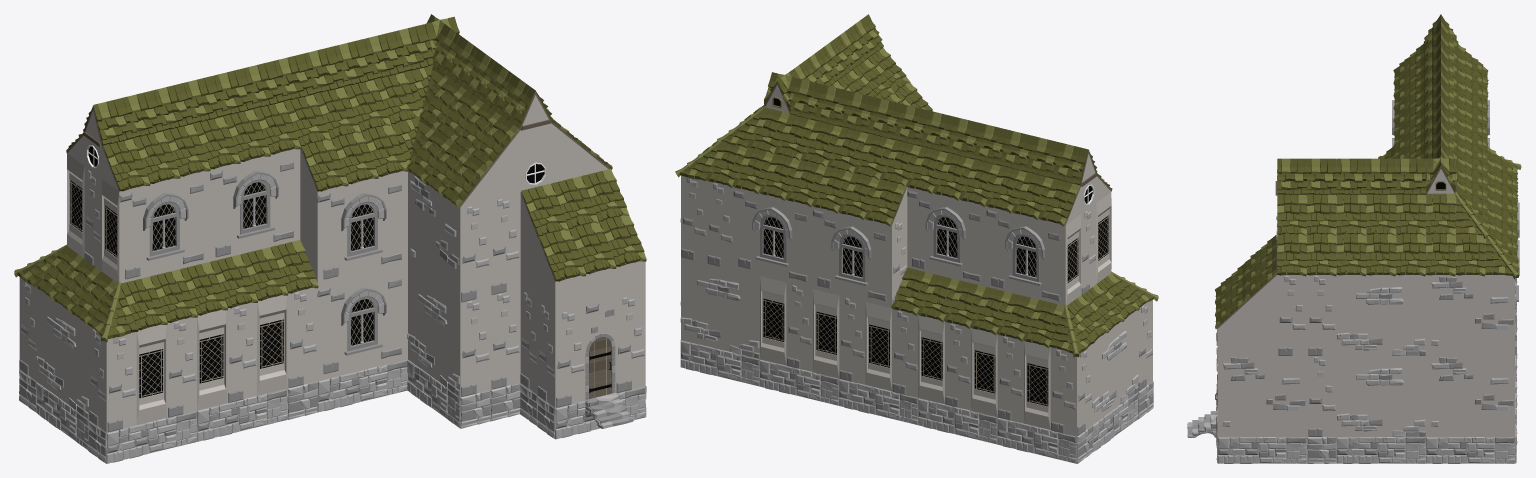
Rendered from HOUSE_10.fbx.
3 renders of one model, left to right at view 1: azimuth 30°, elevation 25°; view 2: azimuth 150°, elevation 25°; view 3: azimuth 270°, elevation 25°, orthographic. The views are drawn at different scales.
Parts seen in each view (by area): view 1: WINDOW_03_5, WINDOW_03_2, WINDOW_03_3, WINDOW_03_4, WALL_03_3, WALL_03_4, WALL_01_2, WALL_06_7, WALL_06_16, WALL_06_6, WALL_06_17, WALL_06_9 (+89 smaller); view 2: WINDOW_03_9, WALL_03_5, WINDOW_03_8, WINDOW_03_6, WINDOW_03_7, WALL_03_4, FOUNDATION_03_11, FOUNDATION_03_12, FOUNDATION_03_10, WALL_06_24, FOUNDATION_03_9, WALL_06_23 (+70 smaller); view 3: WALL_01_4, WALL_03_2, WALL_01_3, WALL_03_6, WALL_01_6, FOUNDATION_03_14, FOUNDATION_03_15, FOUNDATION_03_13, WALL_06_25, WALL_06_29, WALL_06_30, ROOF_BASE_45 (+61 smaller).
Boxes of the visible parts, x1=… form: WINDOW_03_5: x1=317, y1=264, x2=407, y2=380; WINDOW_03_2: x1=316, y1=171, x2=407, y2=285; WINDOW_03_3: x1=209, y1=149, x2=300, y2=262; WINDOW_03_4: x1=119, y1=171, x2=209, y2=283; WALL_03_3: x1=407, y1=264, x2=460, y2=396; WALL_03_4: x1=36, y1=288, x2=89, y2=419; WALL_01_2: x1=408, y1=171, x2=460, y2=302; WALL_06_7: x1=554, y1=306, x2=585, y2=407; WALL_06_16: x1=490, y1=193, x2=520, y2=294; WALL_06_6: x1=460, y1=200, x2=490, y2=302; WALL_06_17: x1=490, y1=288, x2=520, y2=389; WALL_06_9: x1=460, y1=295, x2=490, y2=396; WINDOW_03_9: x1=733, y1=187, x2=812, y2=288; WALL_03_5: x1=680, y1=257, x2=759, y2=358; WINDOW_03_8: x1=813, y1=206, x2=891, y2=308; WINDOW_03_6: x1=986, y1=206, x2=1065, y2=305; WINDOW_03_7: x1=907, y1=187, x2=986, y2=287; WALL_03_4: x1=1092, y1=310, x2=1138, y2=424; FOUNDATION_03_11: x1=918, y1=397, x2=997, y2=444; FOUNDATION_03_12: x1=997, y1=417, x2=1076, y2=463; FOUNDATION_03_10: x1=839, y1=378, x2=918, y2=424; WALL_06_24: x1=839, y1=295, x2=865, y2=384; FOUNDATION_03_9: x1=760, y1=359, x2=839, y2=405; WALL_06_23: x1=786, y1=282, x2=812, y2=371; WALL_01_4: x1=1426, y1=355, x2=1515, y2=436; WALL_03_2: x1=1336, y1=355, x2=1425, y2=436; WALL_01_3: x1=1217, y1=355, x2=1306, y2=436; WALL_03_6: x1=1336, y1=275, x2=1425, y2=355; WALL_01_6: x1=1426, y1=275, x2=1515, y2=355; FOUNDATION_03_14: x1=1336, y1=436, x2=1425, y2=463; FOUNDATION_03_15: x1=1217, y1=436, x2=1306, y2=463; FOUNDATION_03_13: x1=1426, y1=436, x2=1515, y2=463; WALL_06_25: x1=1307, y1=355, x2=1336, y2=436; WALL_06_29: x1=1307, y1=275, x2=1336, y2=355; WALL_06_30: x1=1277, y1=275, x2=1306, y2=355; ROOF_BASE_45: x1=1366, y1=233, x2=1396, y2=276.
Size of the model in its own units: 1541 by 1016 by 1122.
